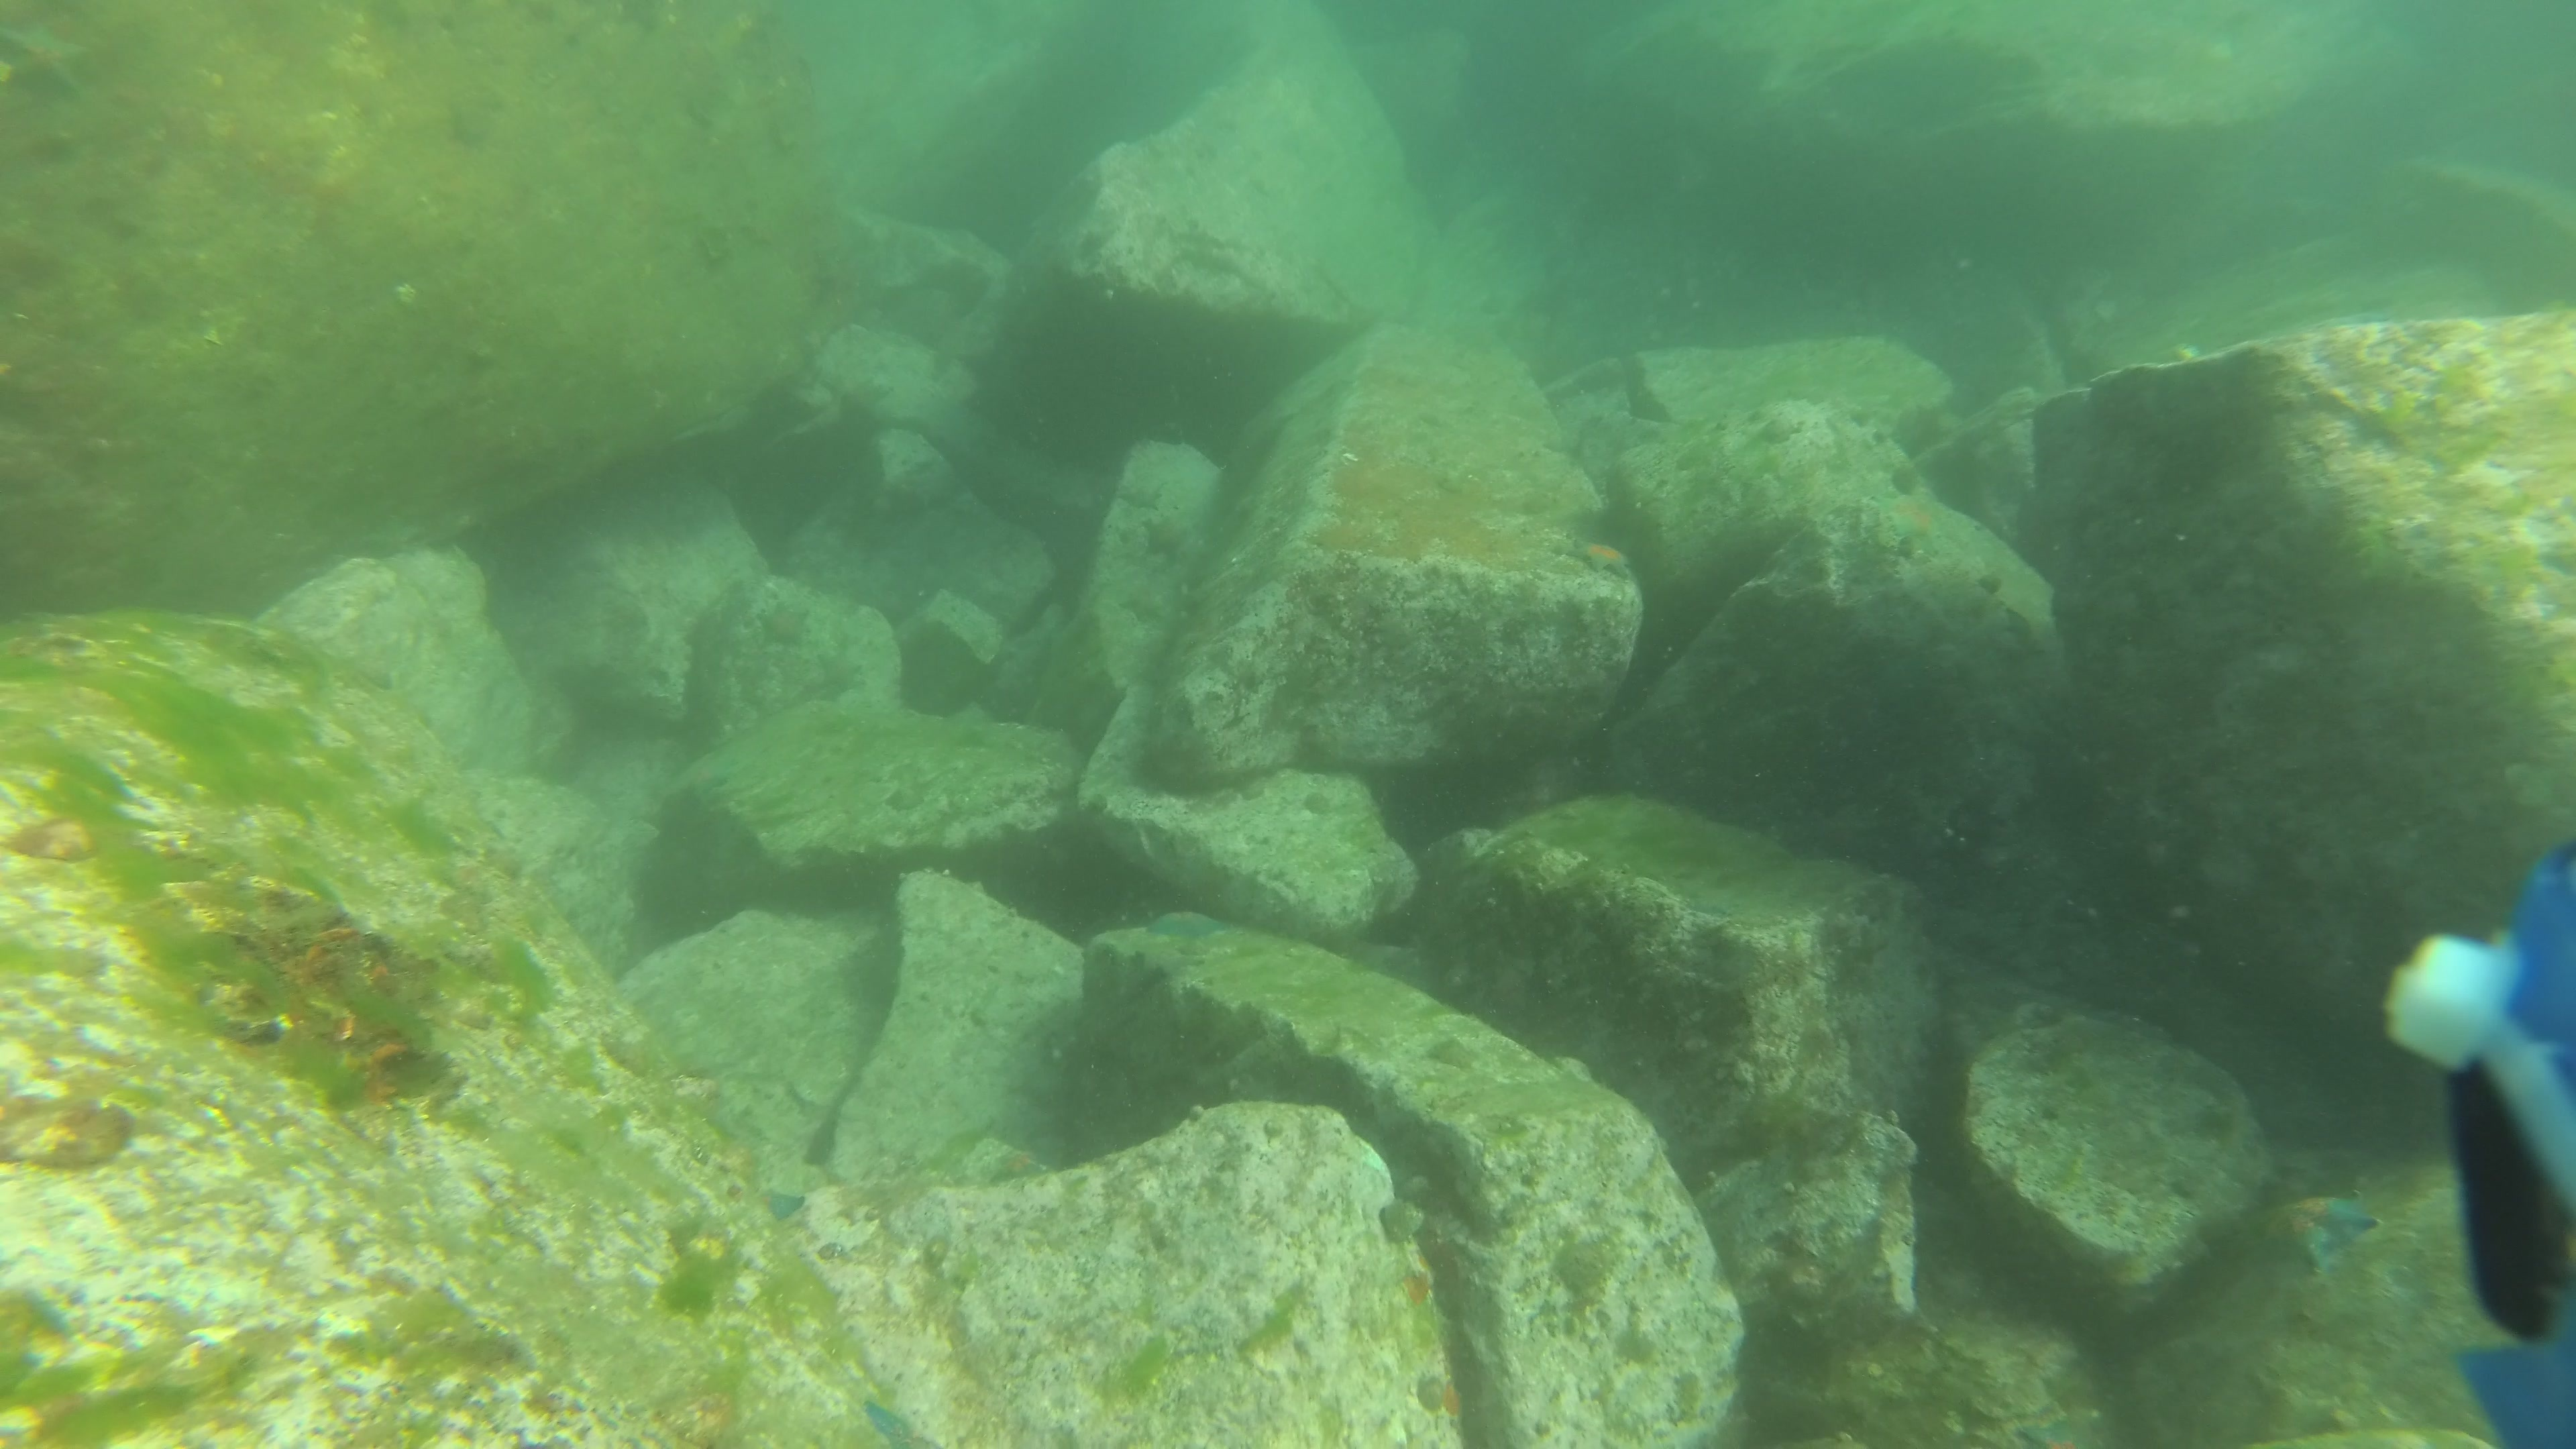starfish: (2250, 1175, 2390, 1284), (1868, 485, 1951, 548), (966, 1139, 1067, 1191), (1136, 899, 1235, 950), (1559, 524, 1640, 586), (855, 1389, 938, 1449), (752, 589, 819, 660), (1138, 508, 1194, 566), (757, 1178, 812, 1233), (1116, 586, 1169, 626), (1116, 479, 1168, 517)
